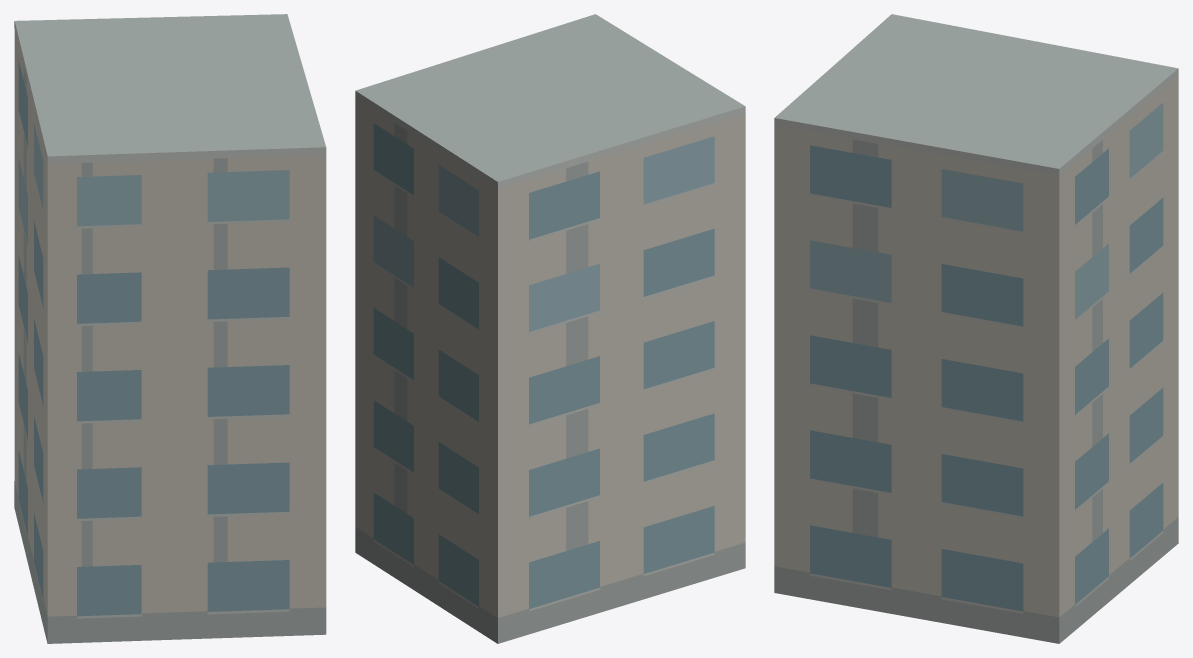
The model's file is survey-upis-32727129.glb.
3 views of the same model, side by side, from view 1: azimuth 30°, elevation 25°; view 2: azimuth 150°, elevation 25°; view 3: azimuth 270°, elevation 25° (orthographic). The views are drawn at different scales.
Parts seen in each view (by area): view 1: survey-upis-32727129.tmp; view 2: survey-upis-32727129.tmp; view 3: survey-upis-32727129.tmp.
Boxes of the visible parts, <box> form: survey-upis-32727129.tmp: <box>14,14,326,643</box>; survey-upis-32727129.tmp: <box>355,14,745,643</box>; survey-upis-32727129.tmp: <box>774,14,1178,643</box>.
Bounding box in the file's own units: 10.92 × 15.6 × 12.04.
